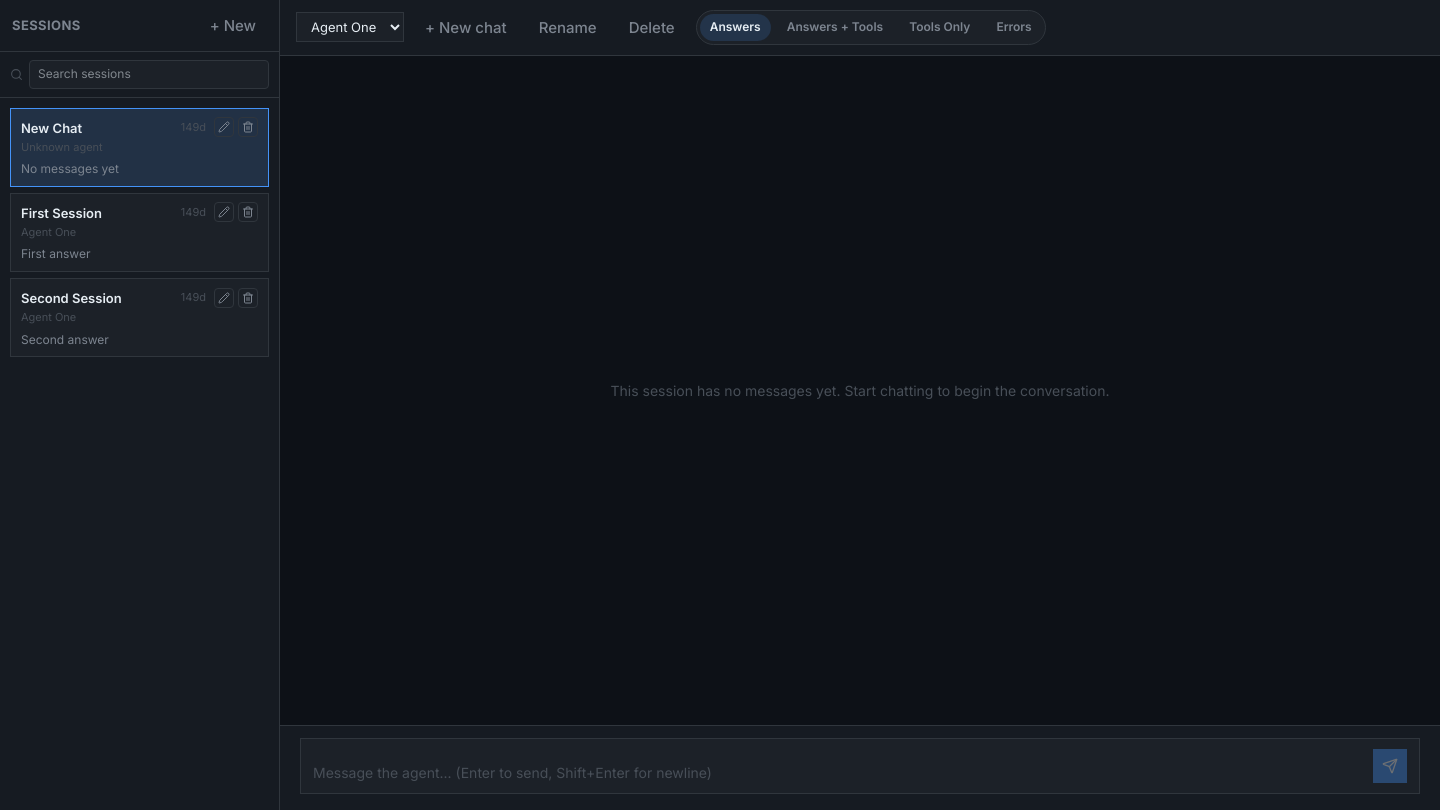
Test: ChatPage › opens a session when clicking anywhere on the session row
The width and height of the screenshot is (1440, 810).
Check: the text "Second Session" is shown, box x1=21 y1=290 x2=122 y2=306
Click the text "Second answer" at (65, 339), box x1=21 y1=332 x2=109 y2=347
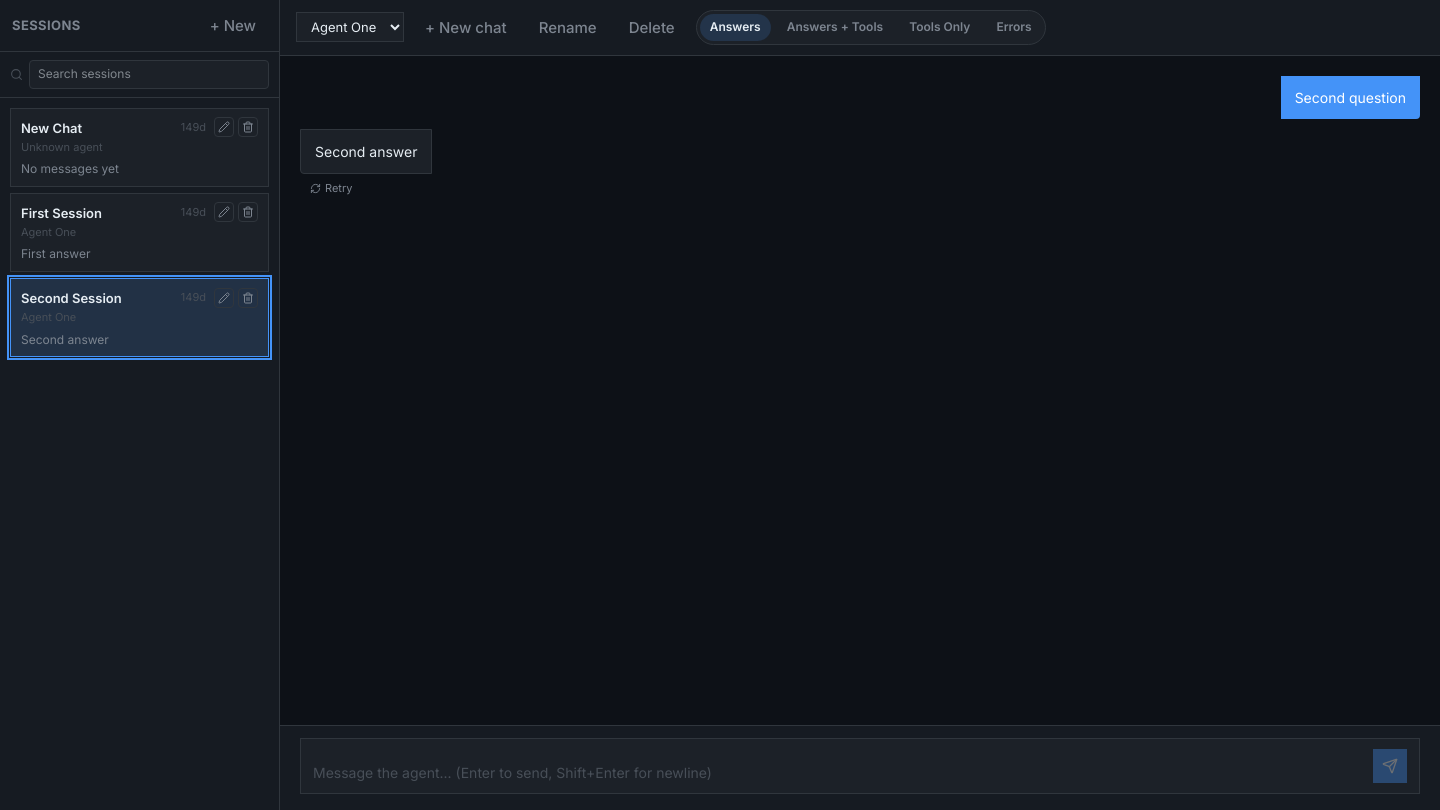
Check: the element with class "chat-page__thread" is shown, box x1=300 y1=76 x2=1420 y2=199
Check: the text "Second question" is shown, box x1=1281 y1=76 x2=1420 y2=119
Check: the 1st text "Second answer" is shown, box x1=315 y1=143 x2=418 y2=160
